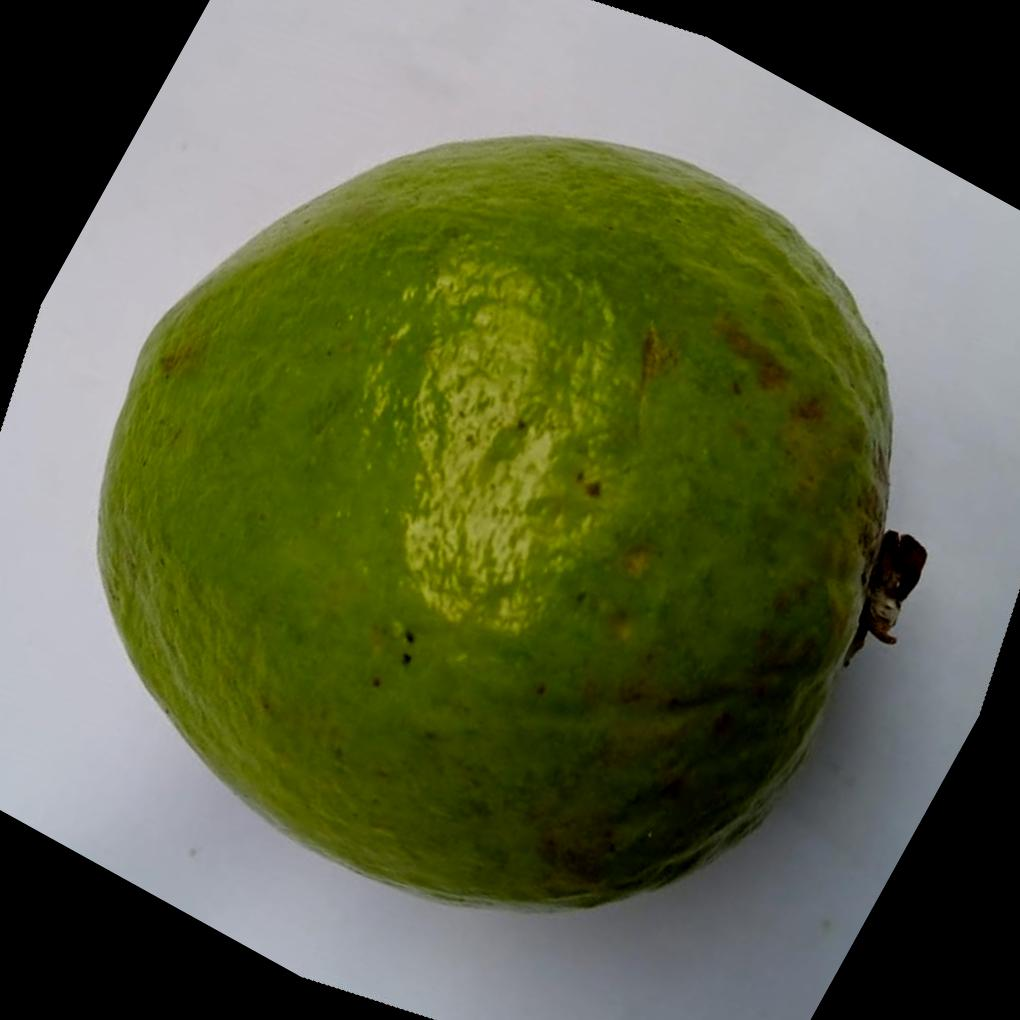FreshGuava: (97, 135, 930, 914)
